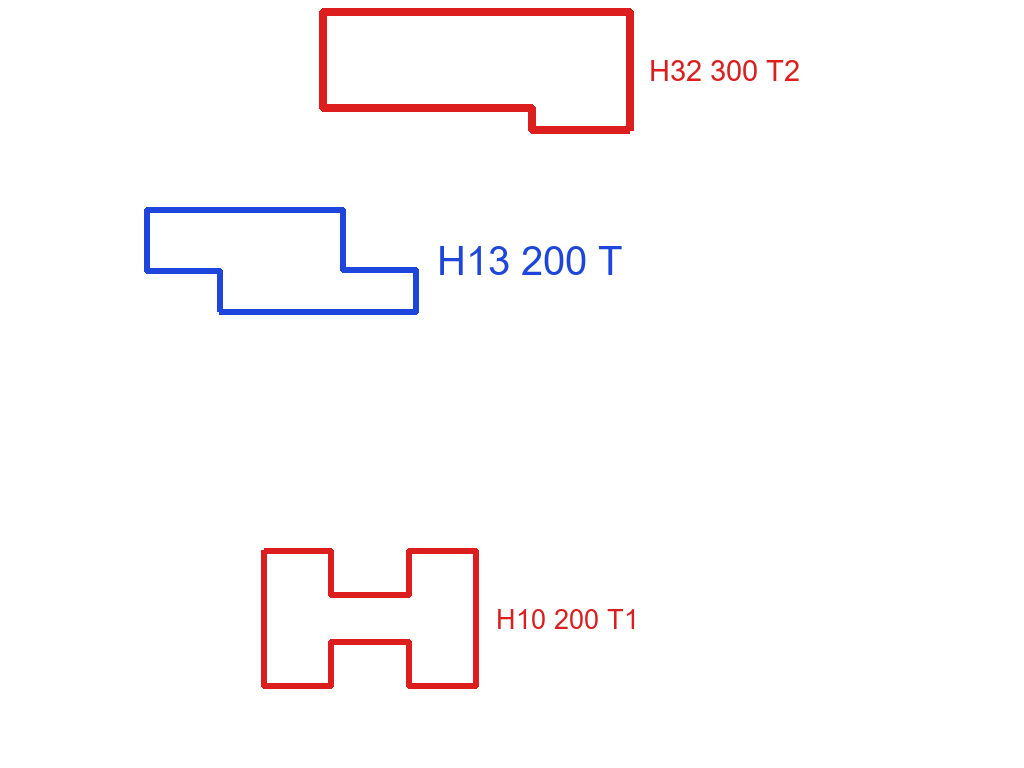shape: (317, 6, 635, 136), (260, 546, 481, 691), (141, 206, 422, 316)
text: (435, 245, 624, 278), (647, 58, 802, 83), (494, 607, 641, 631)
